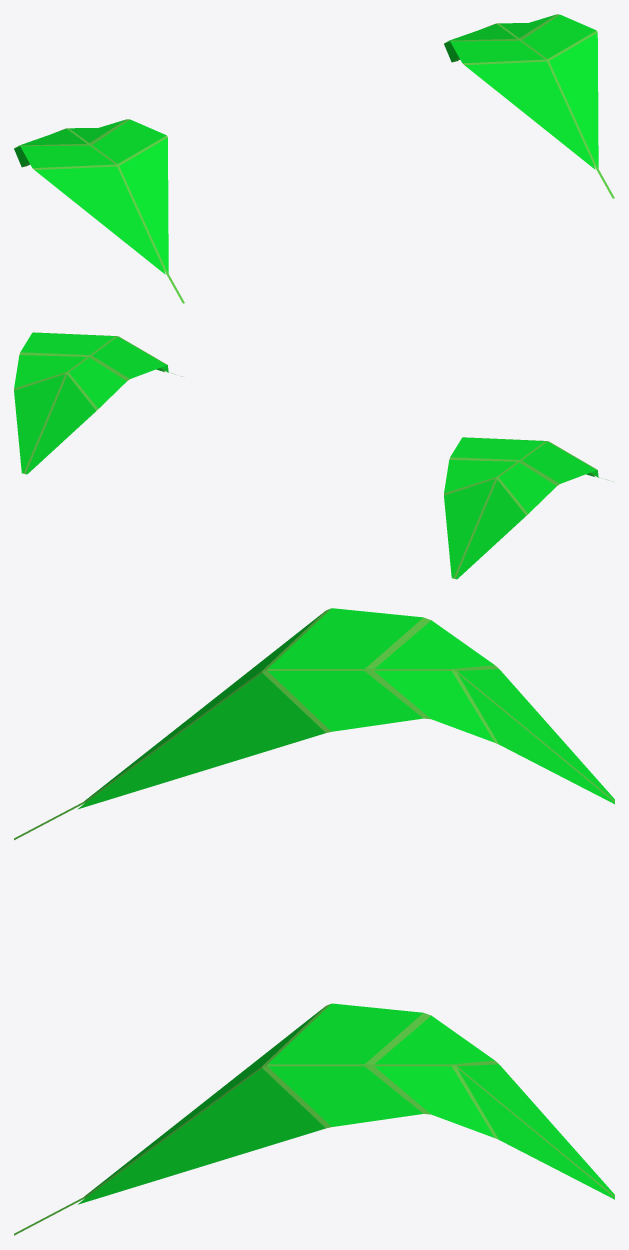
Rendered from leaf.fbx.
3 views of the same model, one above another, from view 1: azimuth 30°, elevation 25°; view 2: azimuth 150°, elevation 25°; view 3: azimuth 270°, elevation 25° (orthographic). The views are drawn at different scales.
Visible parts, largest first — view 1: Plane.001, Plane; view 2: Plane, Plane.001; view 3: Plane.001, Plane.
Boxes of the visible parts, box(x1,y1,x2,y2) form: Plane.001: box(444, 14, 614, 198); Plane: box(14, 119, 184, 303); Plane: box(444, 437, 613, 579); Plane.001: box(14, 332, 182, 474); Plane.001: box(14, 1003, 614, 1235); Plane: box(14, 608, 614, 840).
Size of the model in its own units: 835 by 129 by 409.
